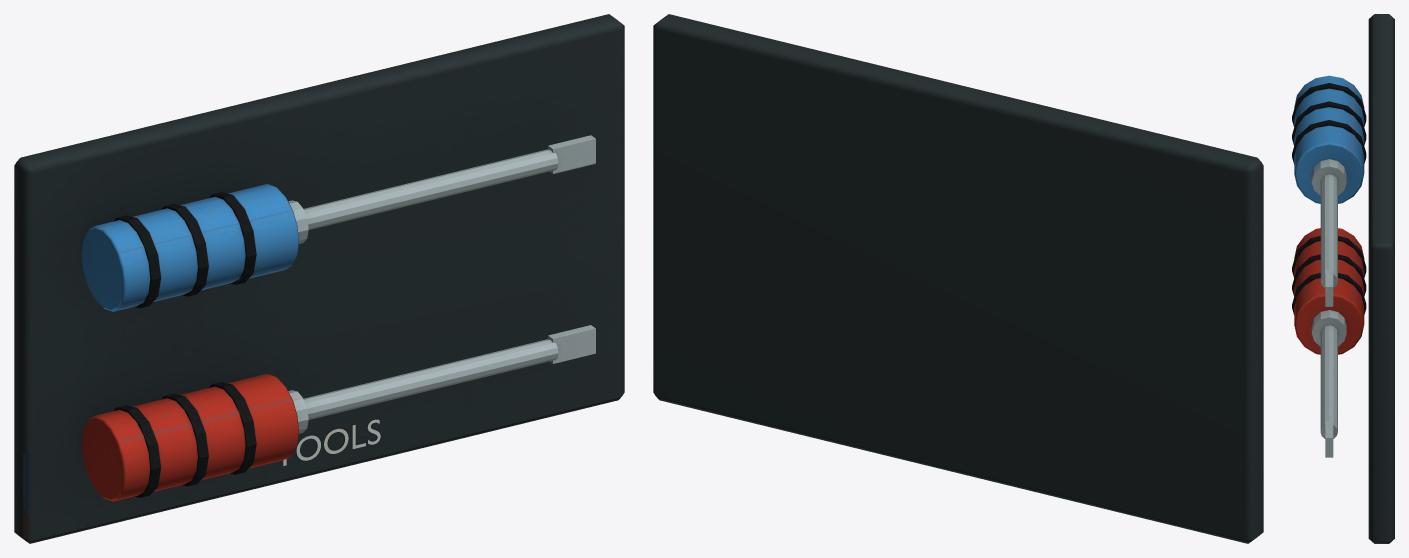
The model's file is screwdriver_set.obj.
3 renders of one model, left to right at view 1: azimuth 30°, elevation 25°; view 2: azimuth 150°, elevation 25°; view 3: azimuth 270°, elevation 25°, orthographic. The views are drawn at different scales.
Parts seen in each view (by area): view 1: screwdriver_set; view 2: screwdriver_set; view 3: screwdriver_set.
Part boxes in pixels (x1,y1,x2,y2): screwdriver_set: (14,14,624,543); screwdriver_set: (653,14,1263,543); screwdriver_set: (1292,14,1394,543).
Bounding box in the file's own units: 0.126 × 0.076 × 0.0235.
2 materials, 2 textured.
